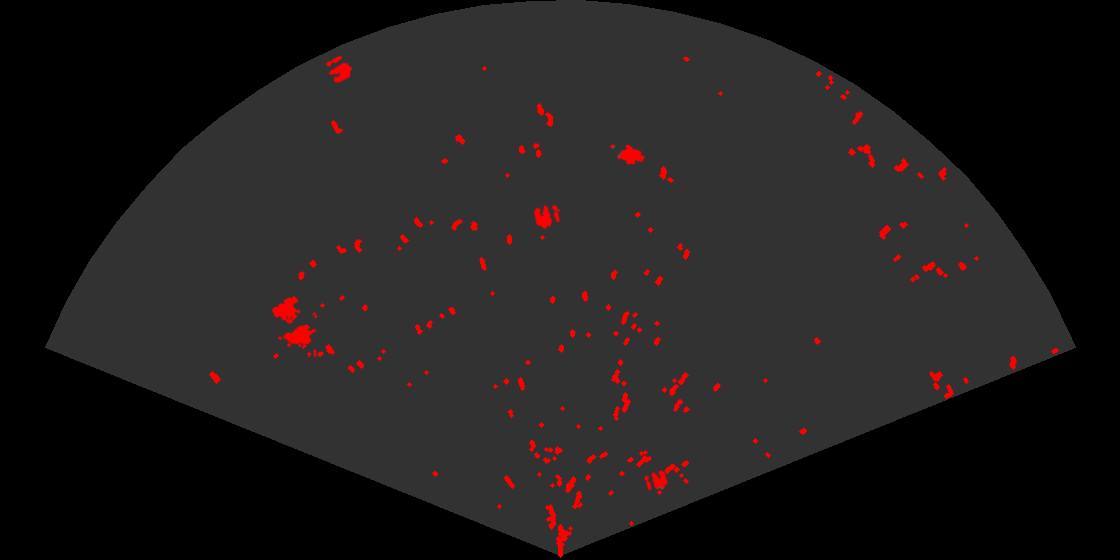AUV: (608, 142, 647, 166)
ball: (324, 54, 354, 85), (532, 203, 561, 230), (643, 469, 670, 492)
cage: (270, 294, 317, 357)
